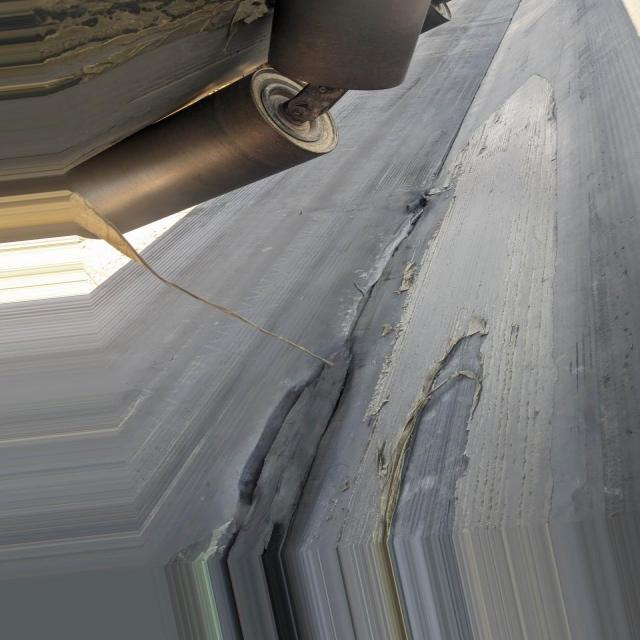Roller: (51, 0, 455, 239)
Tear: (224, 177, 448, 532), (366, 312, 498, 640)
